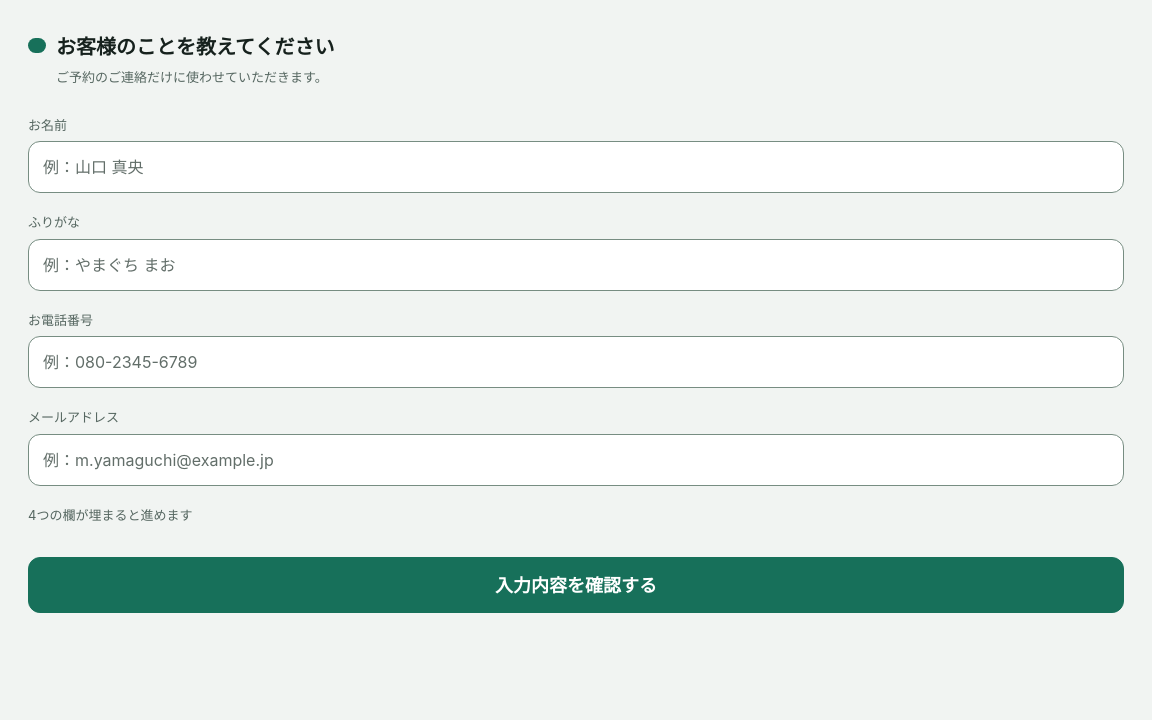
Test: ふりがな › 変換の確定イベントが来ない経路でも、欄を離れたときに 1 回だけ埋まる
Type "やまぐち まお" into the field labelled "お名前" at (576, 167), box [28,141,1124,193]
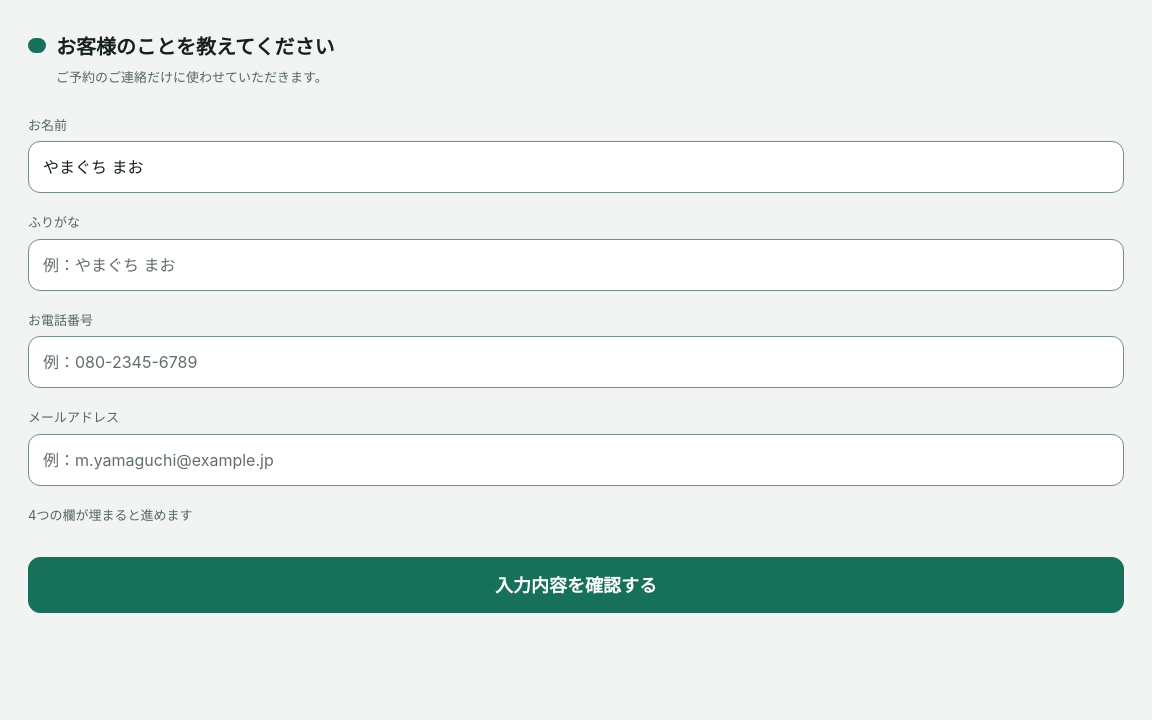
Replace the text in the field labelled "お名前" with "山口 真央" at (576, 167), box [28,141,1124,193]
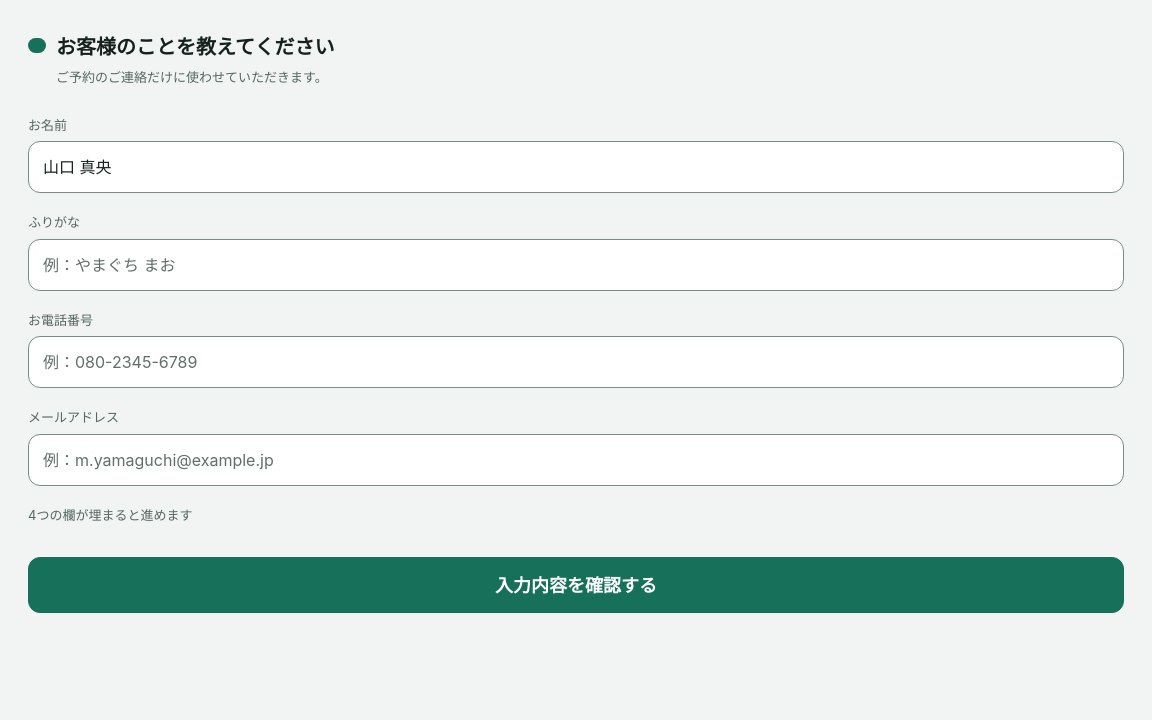
Check: the field labelled "ふりがな" is empty, box [28,238,1124,290]
Leave the field labelled "お名前", box [28,141,1124,193]
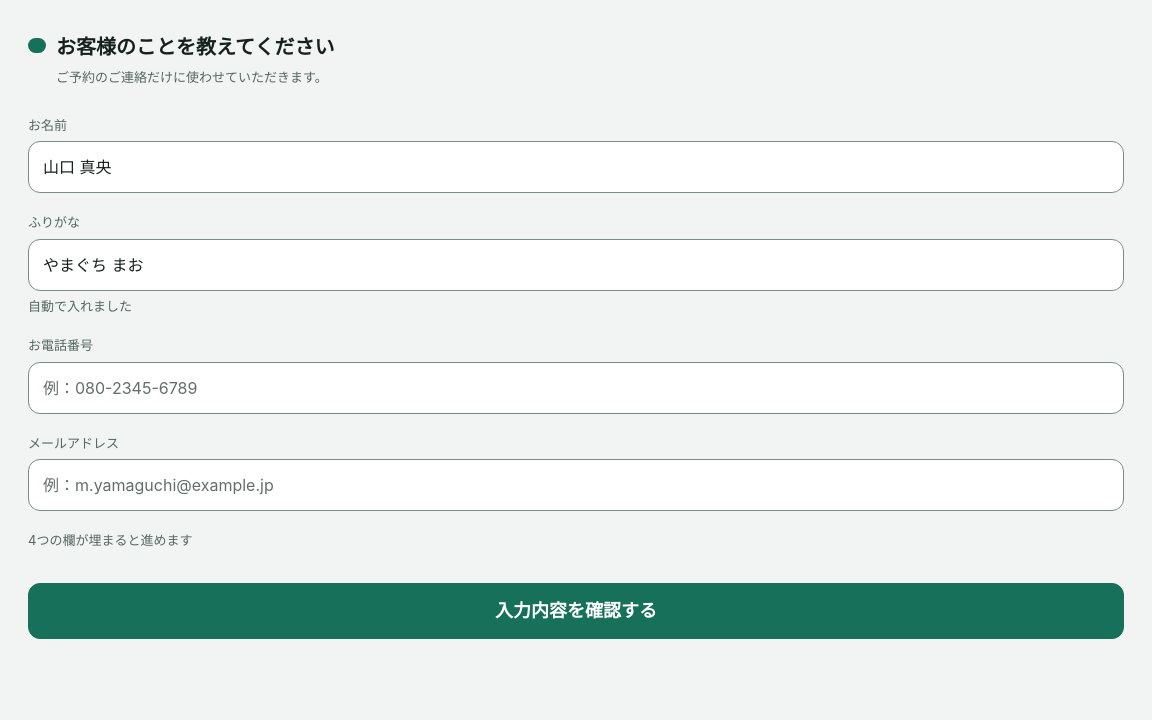
Check: the field labelled "ふりがな" holds "やまぐち まお", box [28,238,1124,290]
